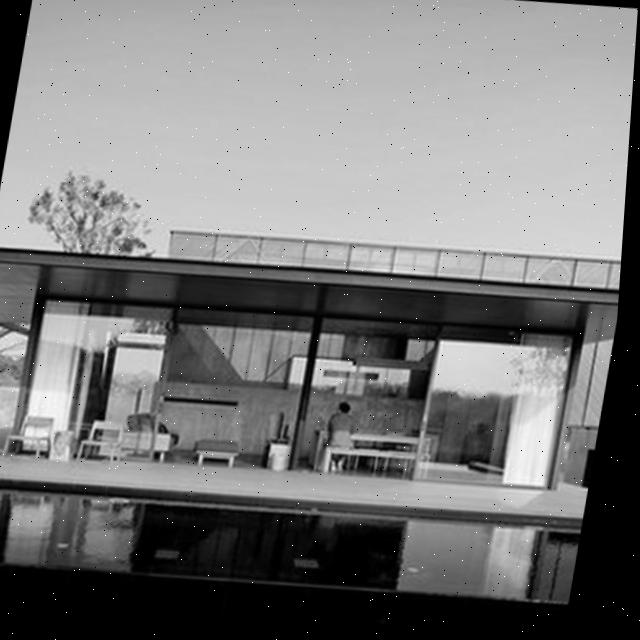building: (0, 192, 626, 519)
